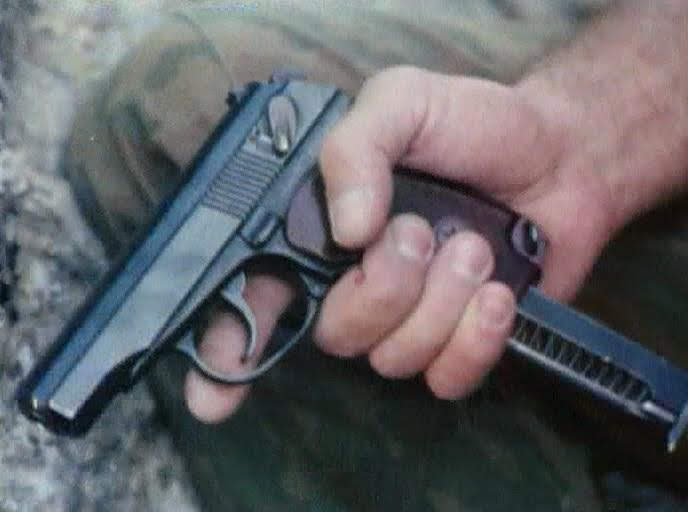gun: (12, 28, 662, 470)
